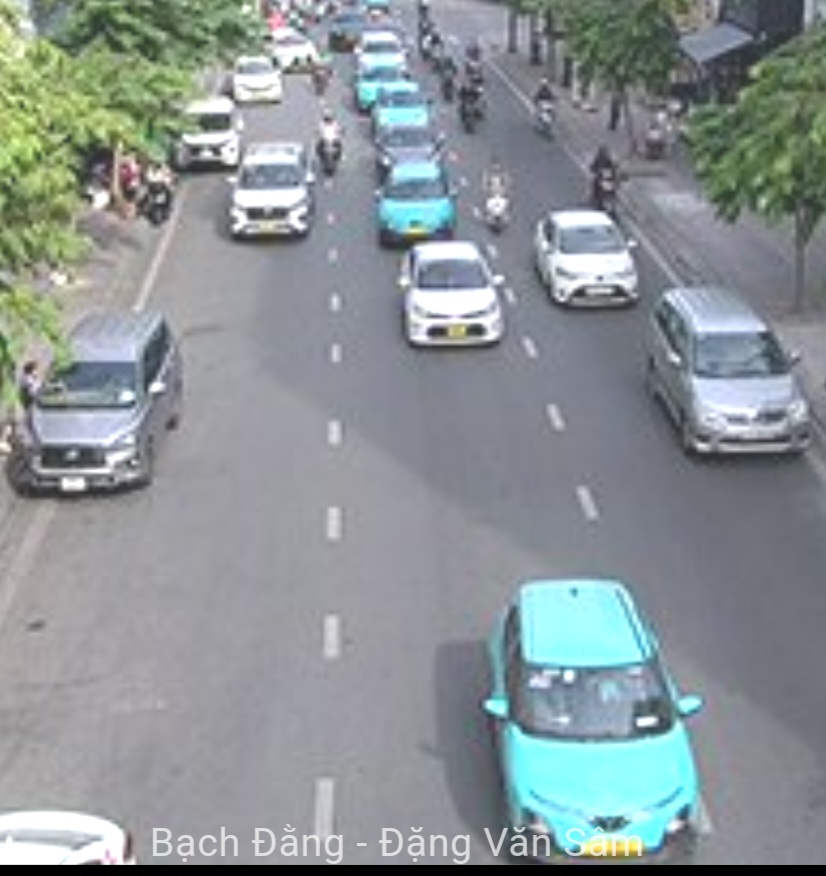car: (487, 578, 704, 861), (21, 317, 185, 497), (652, 286, 810, 458), (395, 242, 501, 349), (533, 213, 645, 311), (226, 138, 322, 247), (380, 167, 458, 242), (175, 97, 237, 170), (370, 126, 449, 166), (375, 85, 432, 128), (231, 57, 283, 103)
